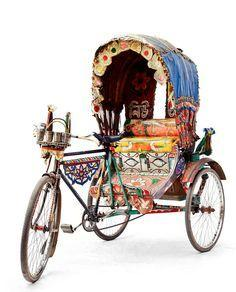Rickshaw: (21, 35, 224, 281)
